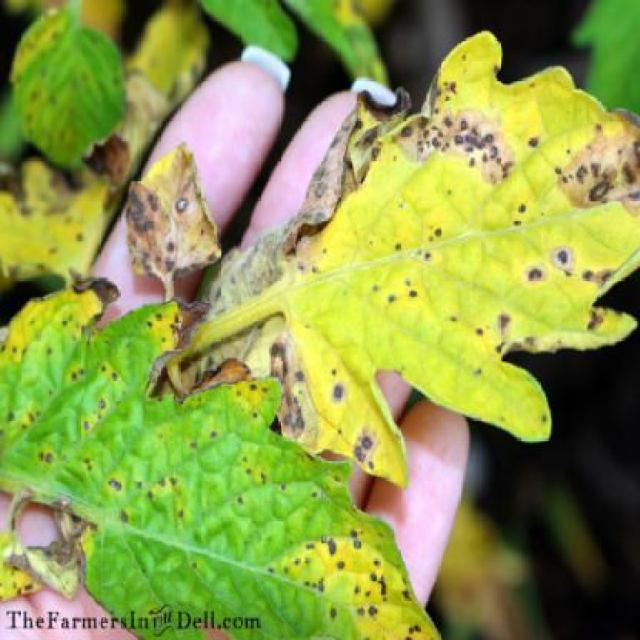Septoria leaf spot: (260, 42, 609, 449), (18, 311, 440, 638)
